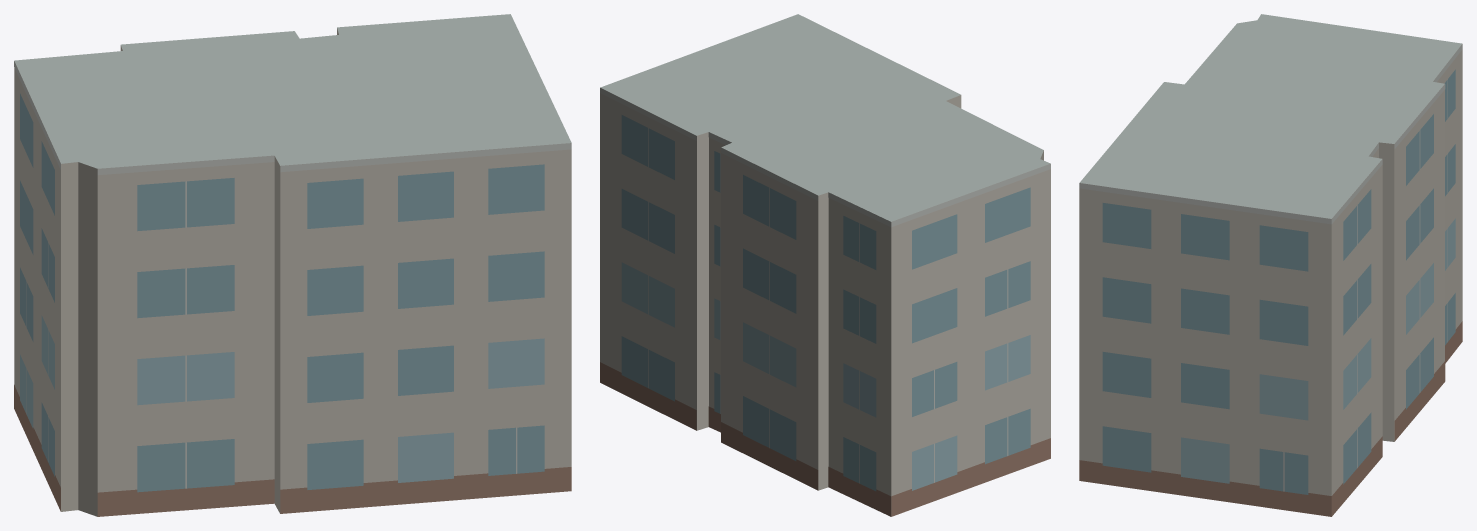
File: survey-upis-32968615.glb
3 renders of one model, left to right at view 1: azimuth 30°, elevation 25°; view 2: azimuth 150°, elevation 25°; view 3: azimuth 270°, elevation 25°, orthographic. The views are drawn at different scales.
Visible parts, largest first — view 1: survey-upis-32968615.tmp; view 2: survey-upis-32968615.tmp; view 3: survey-upis-32968615.tmp.
Boxes of the visible parts, x1=… form: survey-upis-32968615.tmp: x1=14, y1=14, x2=571, y2=516; survey-upis-32968615.tmp: x1=600, y1=14, x2=1050, y2=516; survey-upis-32968615.tmp: x1=1079, y1=14, x2=1462, y2=516.
Size of the model in its own units: 19.49 by 13.2 by 15.4.
